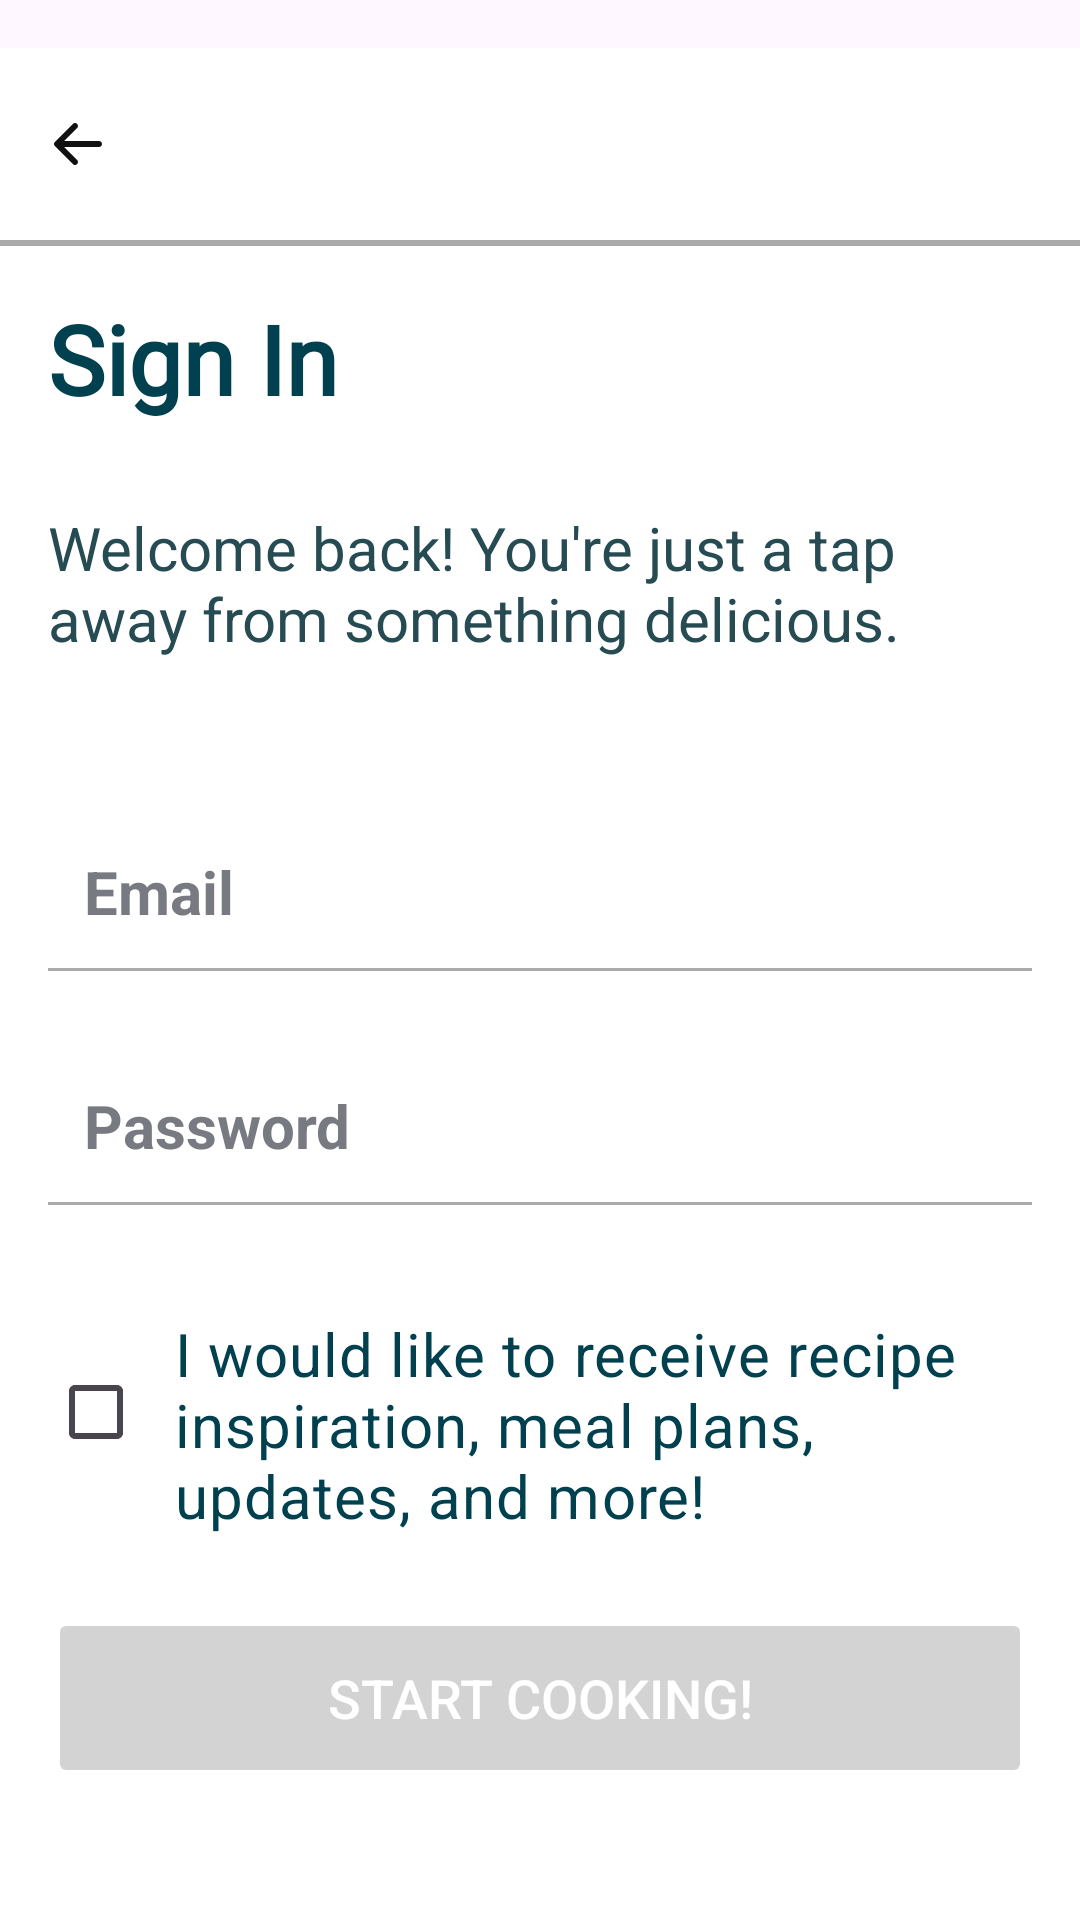

Where icons sit on this 1080*1920 app screen, as (x1, y1, x2, y2):
arrowback: (54, 123, 102, 165)
